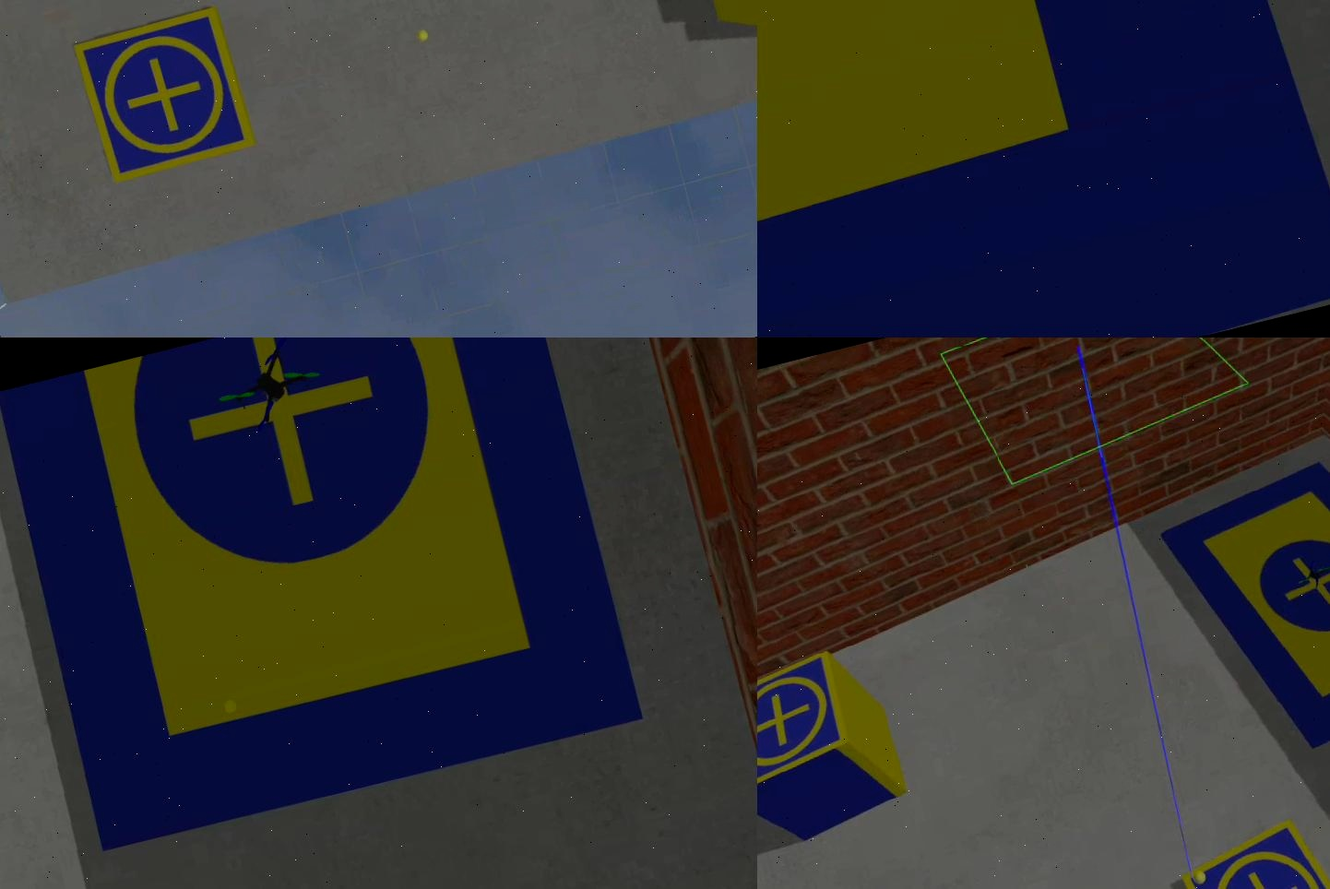large_base: (1, 338, 647, 857), (757, 1, 1330, 338), (1150, 426, 1330, 776)
small_base: (69, 4, 261, 189), (757, 649, 860, 805), (1172, 808, 1330, 889)
